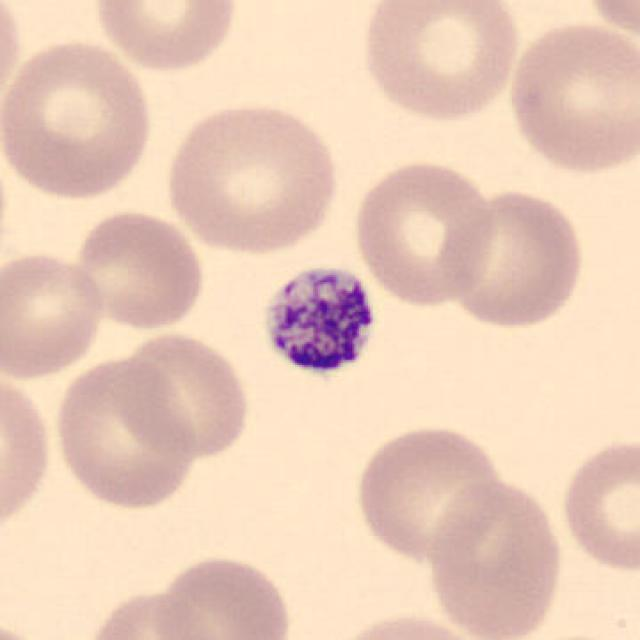Platelets: (256, 259, 382, 386)
RBC: (160, 97, 345, 257), (0, 35, 156, 202), (50, 353, 199, 513), (423, 476, 567, 640), (348, 155, 499, 309), (351, 420, 508, 566), (503, 16, 638, 178), (441, 185, 588, 333), (356, 0, 522, 125), (110, 328, 254, 464), (69, 206, 208, 334), (0, 246, 107, 382), (149, 550, 297, 640), (87, 0, 244, 76), (556, 434, 638, 576), (0, 367, 55, 541), (80, 585, 224, 640), (316, 608, 496, 640), (0, 0, 25, 122), (578, 0, 640, 44), (0, 617, 66, 640)
